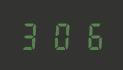six: (75, 20, 102, 50)
three: (18, 20, 45, 50)
zero: (47, 20, 74, 50)
